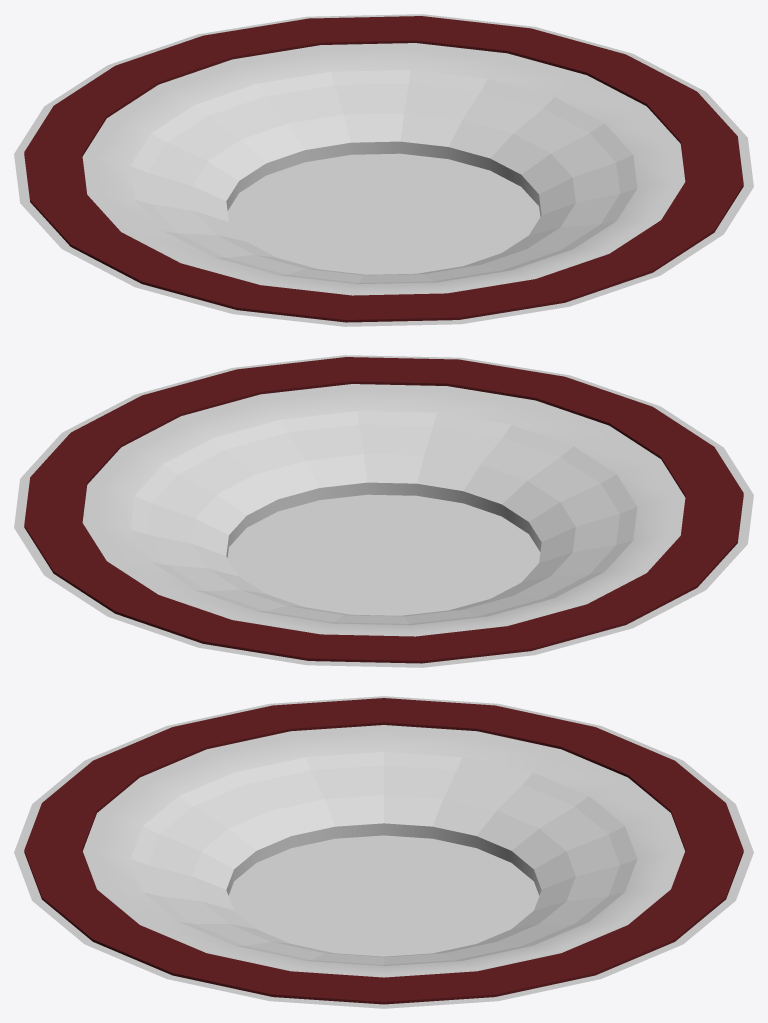
The model's file is plate3.fbx.
The picture shows the model from 3 angles, top to bottom: view 1: azimuth 30°, elevation 25°; view 2: azimuth 150°, elevation 25°; view 3: azimuth 270°, elevation 25°; orthographic projection.
Parts seen in each view (by area): view 1: pPipe2; view 2: pPipe2; view 3: pPipe2.
Part boxes in pixels (x1=…): pPipe2: x1=14, y1=14, x2=753, y2=326; pPipe2: x1=14, y1=355, x2=753, y2=667; pPipe2: x1=14, y1=696, x2=753, y2=1008.
Bounding box in the file's own units: 4.03 × 0.3973 × 4.03.
